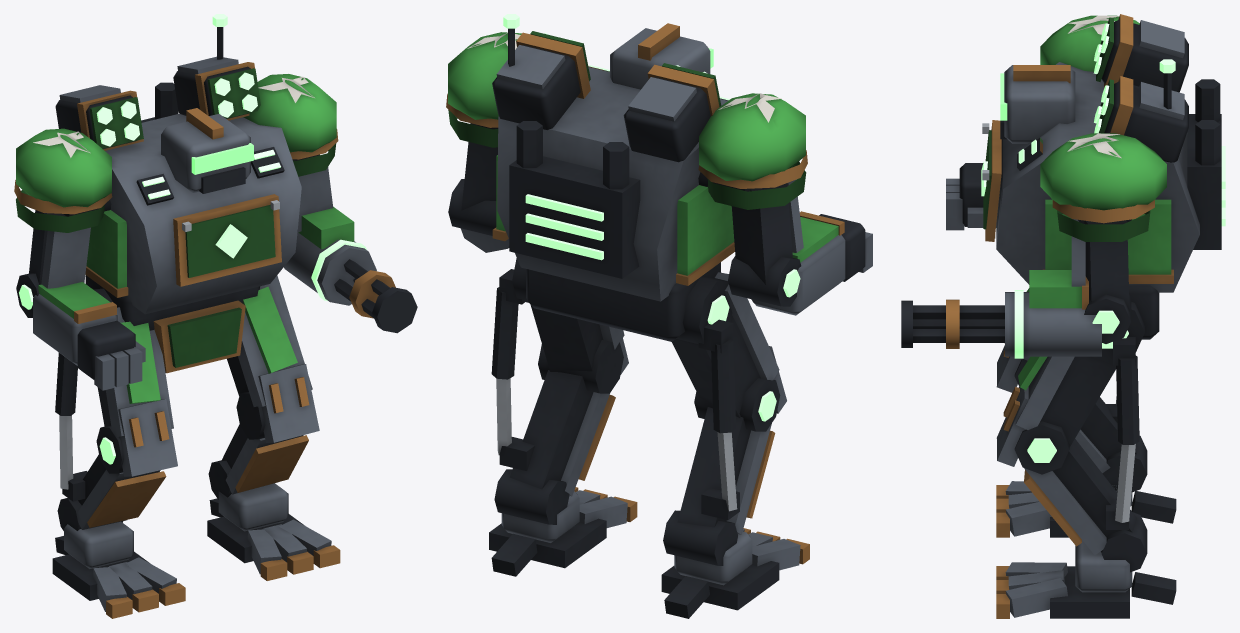
File: mech_green.glb
3 views of the same model, side by side, from view 1: azimuth 30°, elevation 25°; view 2: azimuth 150°, elevation 25°; view 3: azimuth 270°, elevation 25° (orthographic). The views are drawn at different scales.
Parts seen in each view (by area): view 1: mech_green; view 2: mech_green; view 3: mech_green.
Boxes of the visible parts, x1,y1,x2,y2 form: mech_green: [14, 14, 417, 618]; mech_green: [446, 14, 872, 618]; mech_green: [901, 14, 1225, 618].
Bounding box in the file's own units: 0.339 × 0.518 × 0.2835.
3 materials, 1 textured.
